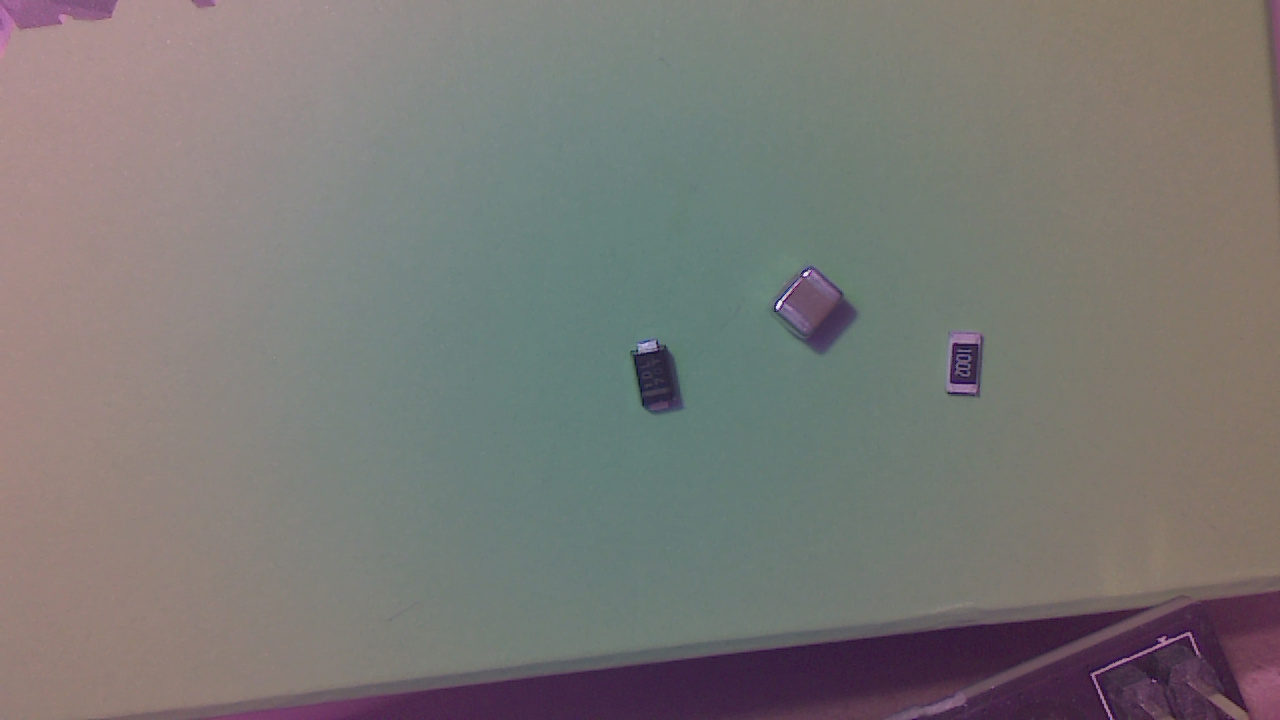Condensator: (775, 274, 849, 342)
Diode: (636, 341, 680, 417)
Resistor: (950, 336, 991, 404)
